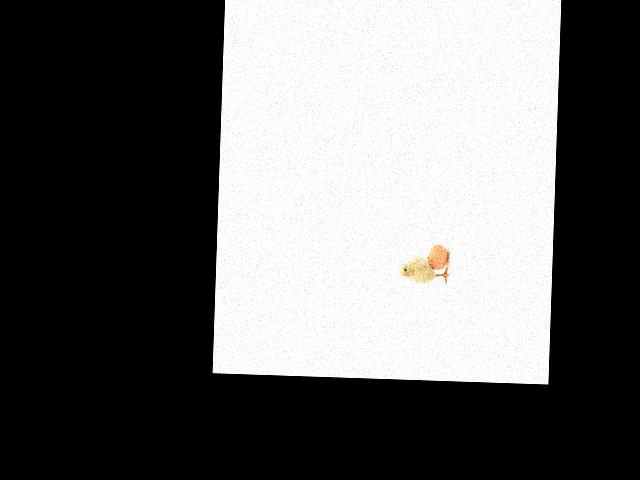egg: (427, 244, 448, 270)
